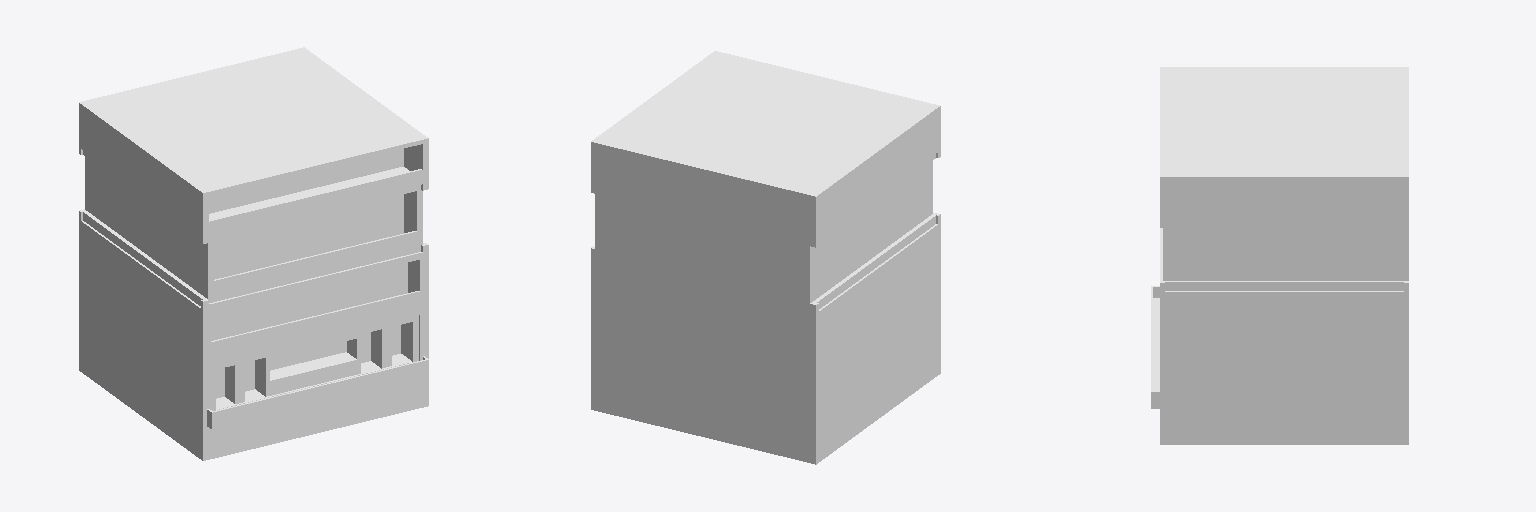
Rendered from aptstack.obj.
3 views of the same model, side by side, from view 1: azimuth 30°, elevation 25°; view 2: azimuth 150°, elevation 25°; view 3: azimuth 270°, elevation 25° (orthographic).
Bounding box in the file's own units: 111 × 126 × 110.